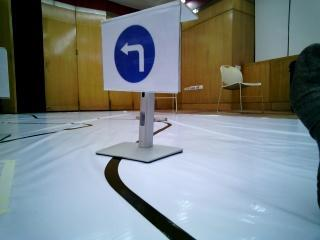left: (105, 21, 168, 83)
